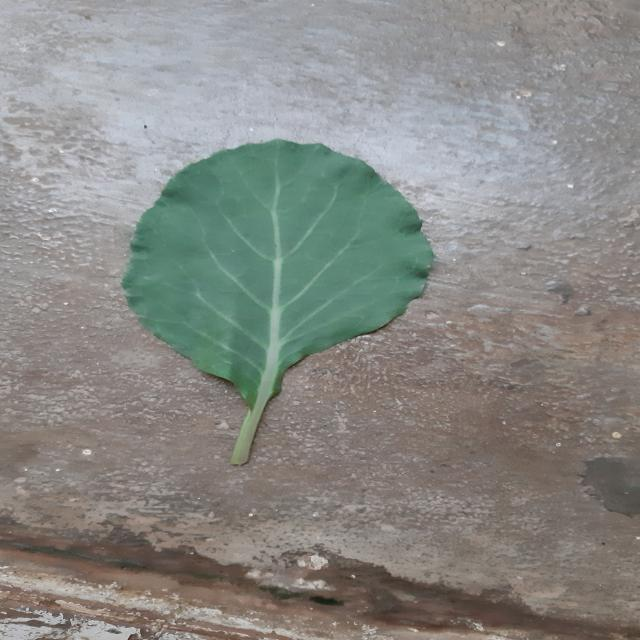Kohlrabi: (122, 140, 433, 465)
